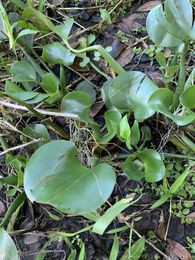water_hyacinth: (0, 0, 195, 243)
